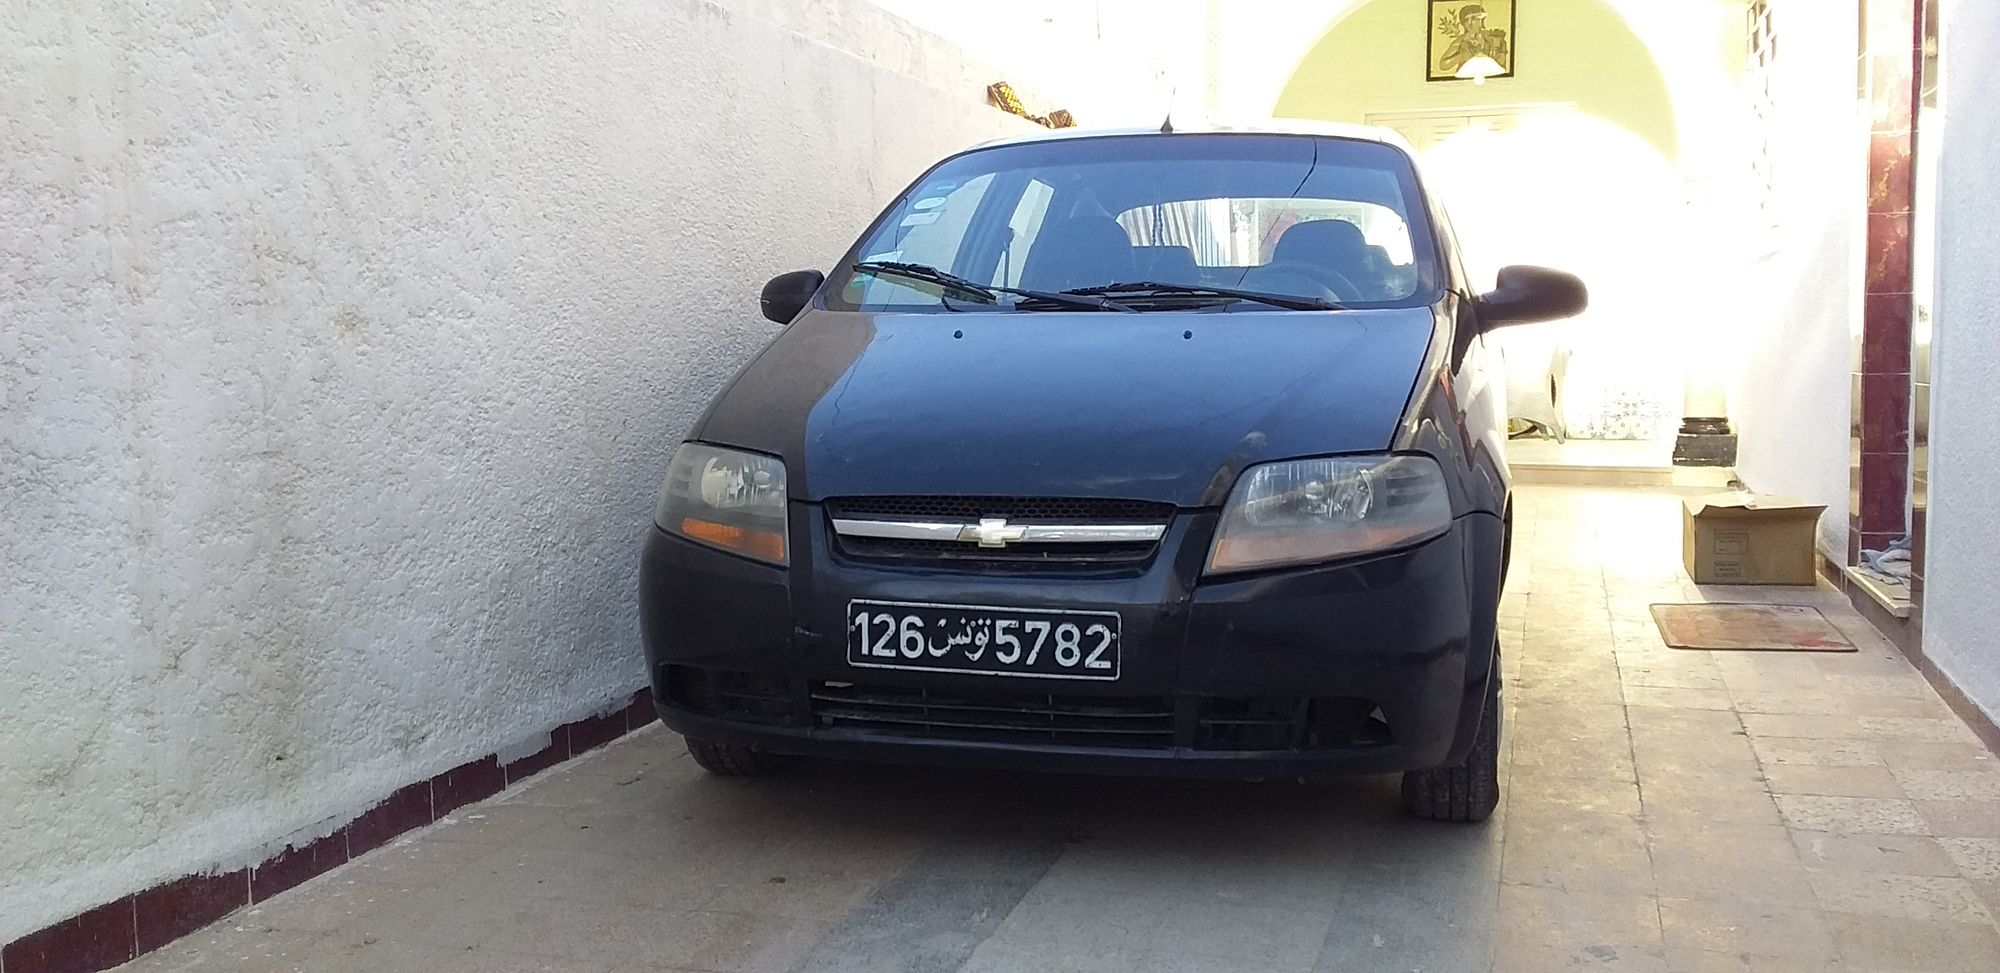LP: (845, 598, 1123, 681)
